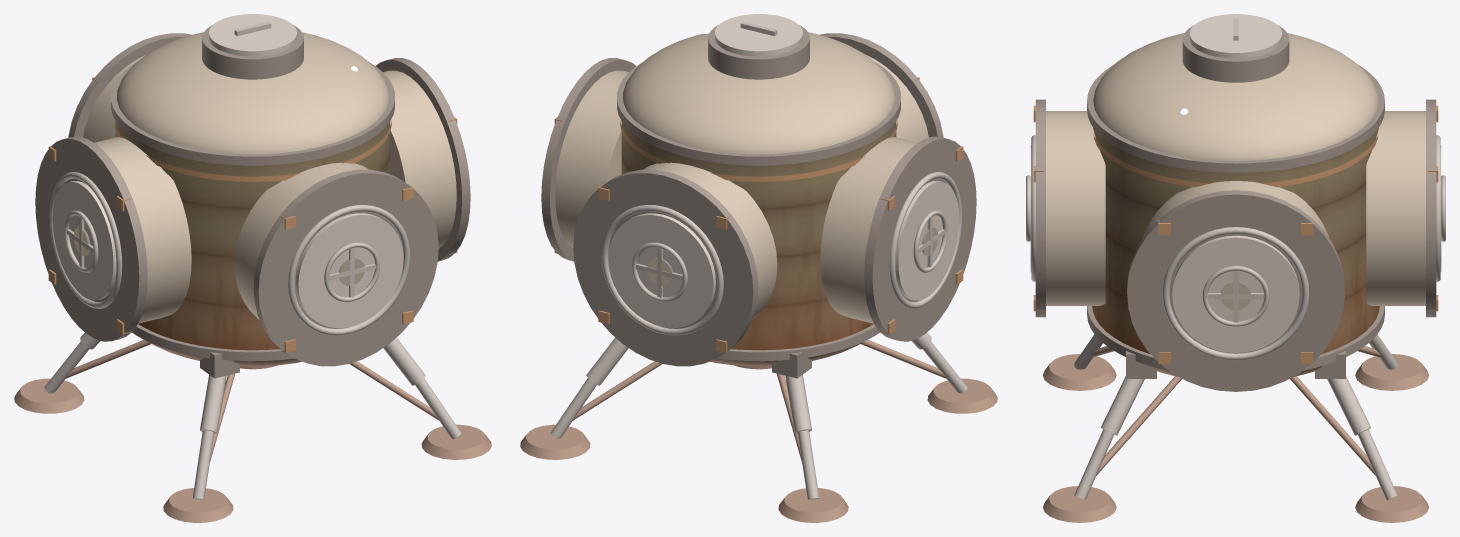
The model's file is W04_node_4ports.glb.
The picture shows the model from 3 angles, left to right: view 1: azimuth 30°, elevation 25°; view 2: azimuth 150°, elevation 25°; view 3: azimuth 270°, elevation 25°; orthographic projection. The views are drawn at different scales.
Visible parts, largest first — view 1: top_dome, ring, hull, top_hatch_handle, bottom_dome, port_porthole; view 2: top_dome, ring, hull, top_hatch_handle, bottom_dome, port_porthole; view 3: top_dome, ring, hull, top_hatch_handle, bottom_dome, port_porthole.
Boxes of the visible parts, x1=… form: top_dome: x1=48, y1=14, x2=457, y2=352; ring: x1=35, y1=25, x2=470, y2=378; hull: x1=115, y1=121, x2=390, y2=350; top_hatch_handle: x1=44, y1=22, x2=461, y2=499; bottom_dome: x1=14, y1=340, x2=491, y2=522; port_porthole: x1=74, y1=227, x2=364, y2=285; top_dome: x1=554, y1=14, x2=963, y2=352; ring: x1=541, y1=25, x2=976, y2=378; hull: x1=621, y1=121, x2=896, y2=350; top_hatch_handle: x1=550, y1=22, x2=967, y2=499; bottom_dome: x1=520, y1=340, x2=997, y2=522; port_porthole: x1=647, y1=227, x2=937, y2=285; top_dome: x1=1030, y1=14, x2=1441, y2=364; ring: x1=1035, y1=25, x2=1436, y2=391; hull: x1=1092, y1=127, x2=1379, y2=353; top_hatch_handle: x1=1026, y1=18, x2=1445, y2=499; bottom_dome: x1=1043, y1=346, x2=1428, y2=522; port_porthole: x1=1221, y1=282, x2=1250, y2=309.
Size of the model in its own units: 4.09 by 4.44 by 4.09.
Materials: 7 (1 with a texture image).
